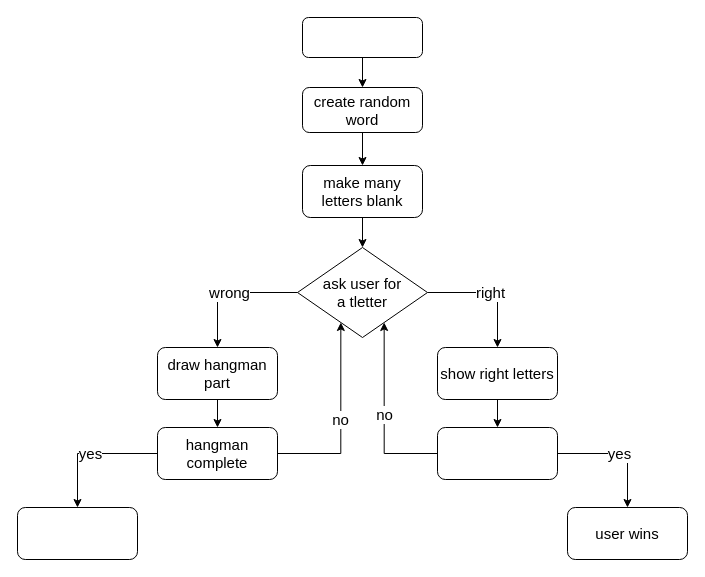
Some shapes in this 705 by 577 pixel diagram are drawn without their labels. The shapes that lost their labels are listed below. From the top down, each one's box as (x1, y1, x2, y2) in pixels, then its label:
(302, 16, 422, 58): Start
(436, 426, 558, 480): word complete
(16, 506, 138, 560): game over
